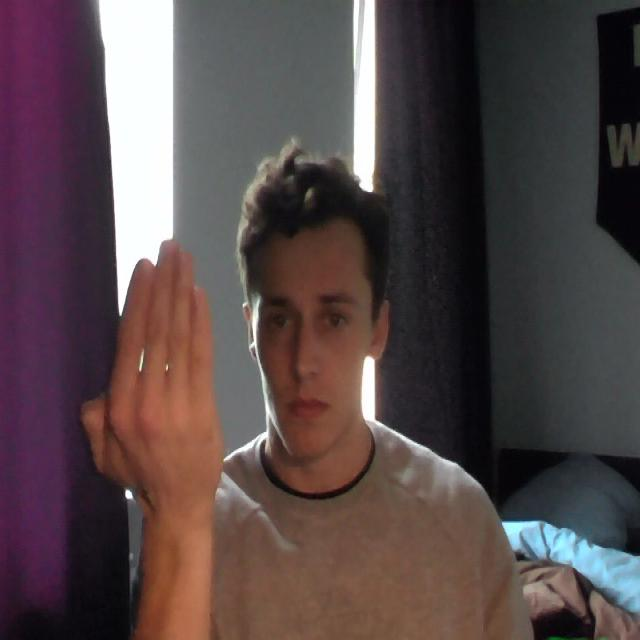forward: (77, 237, 228, 504)
